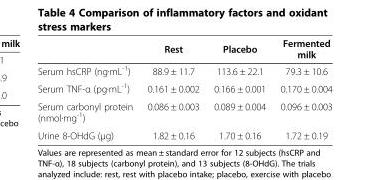table: (36, 37, 331, 140)
table column: (36, 37, 139, 140), (205, 37, 272, 140), (139, 37, 205, 140), (272, 37, 331, 140)
table column header: (36, 37, 331, 61)
table row: (36, 97, 331, 125), (36, 37, 331, 61), (36, 78, 331, 97), (36, 61, 331, 78), (36, 125, 331, 140)
